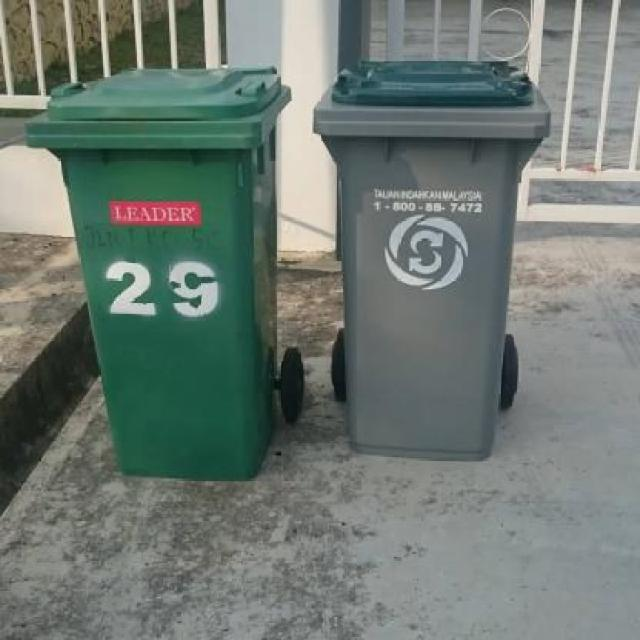garbage container: (16, 58, 309, 500), (300, 47, 563, 485)
